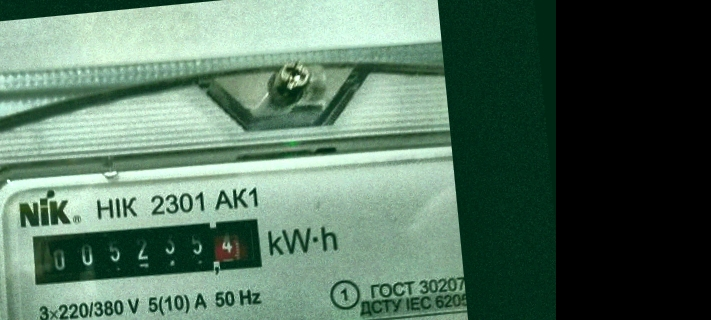0: (50, 245, 68, 273), (78, 241, 95, 267)
2: (133, 235, 149, 261)
3: (161, 230, 177, 256)
4: (218, 228, 235, 256)
5: (188, 228, 205, 257), (105, 237, 123, 264)
screen: (21, 205, 274, 297)
